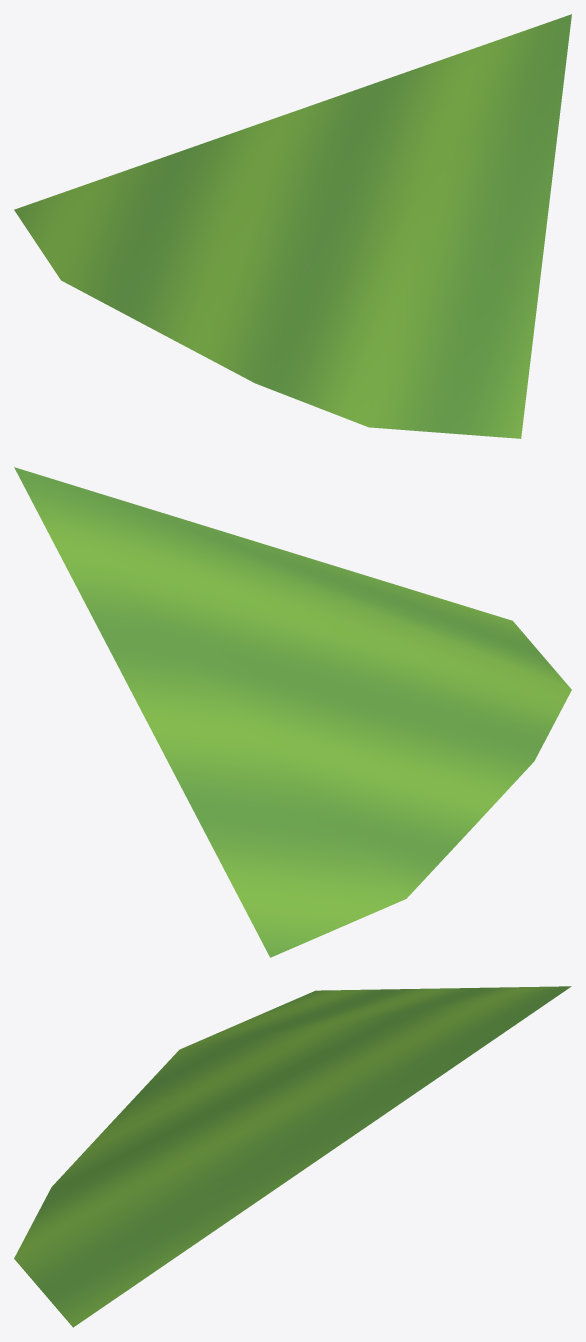
File: ISL-S_LOD2_Grass.fbx
3 views of the same model, one above another, from view 1: azimuth 30°, elevation 25°; view 2: azimuth 150°, elevation 25°; view 3: azimuth 330°, elevation 25° (orthographic). The views are drawn at different scales.
Visible parts, largest first — view 1: ISL-S_LOD2_Grass; view 2: ISL-S_LOD2_Grass; view 3: ISL-S_LOD2_Grass.
Part boxes in pixels (bbox=[...]): ISL-S_LOD2_Grass: bbox=[14, 14, 571, 438]; ISL-S_LOD2_Grass: bbox=[14, 467, 571, 957]; ISL-S_LOD2_Grass: bbox=[14, 986, 571, 1327].
Size of the model in its own units: 14.7 by 21.4 by 7.2.
